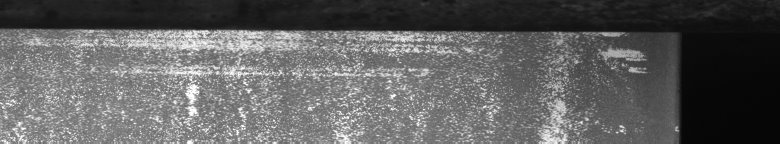kb: (4, 24, 647, 136)
